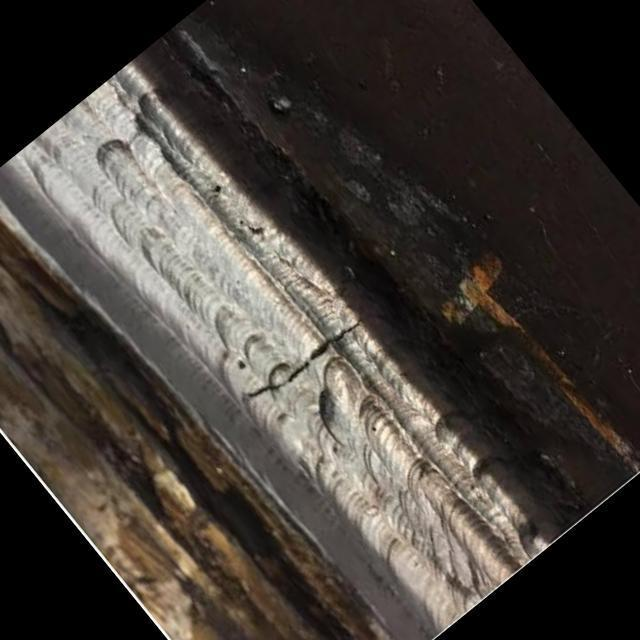defect: (245, 316, 366, 401)
